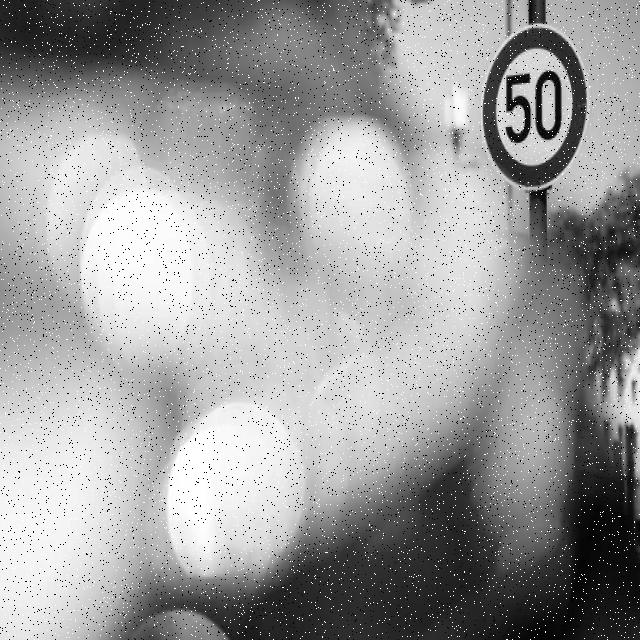speed_limit_50: (482, 16, 585, 188)
